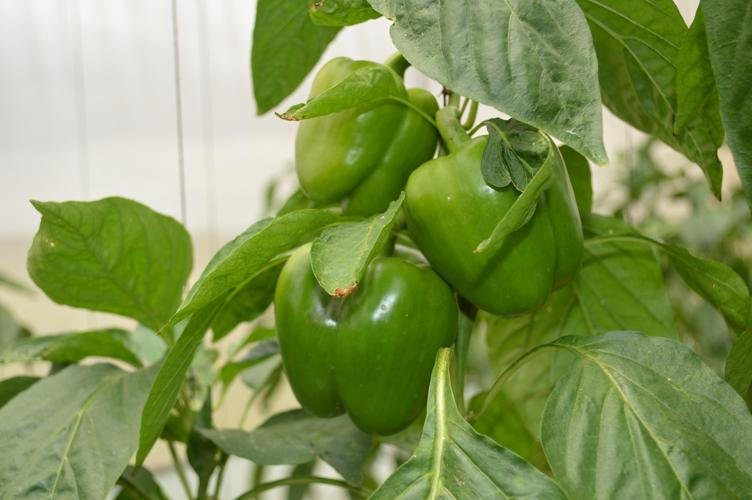BellPepper: (270, 241, 460, 436), (403, 134, 579, 310), (295, 55, 429, 214)
